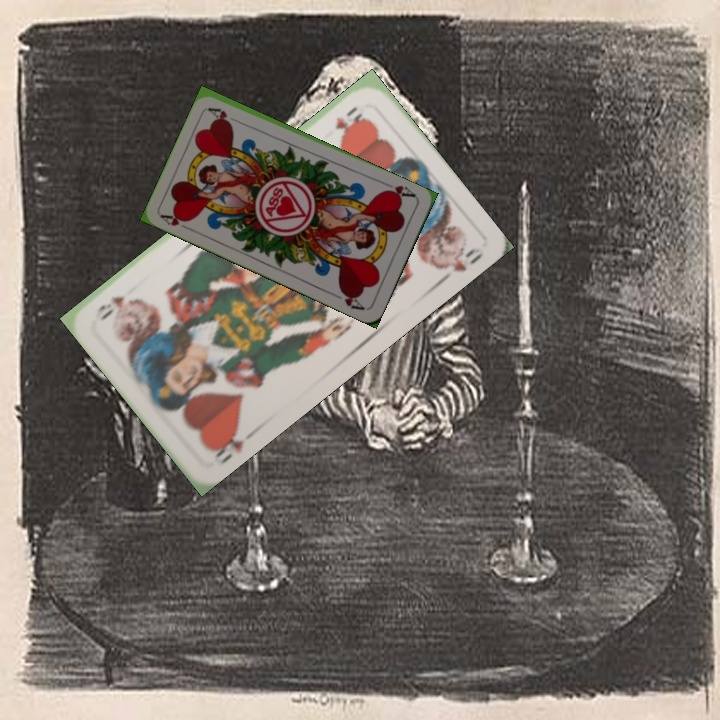HA: (157, 209, 196, 234), (379, 179, 419, 202)
HO: (204, 424, 258, 468), (331, 102, 366, 134)
